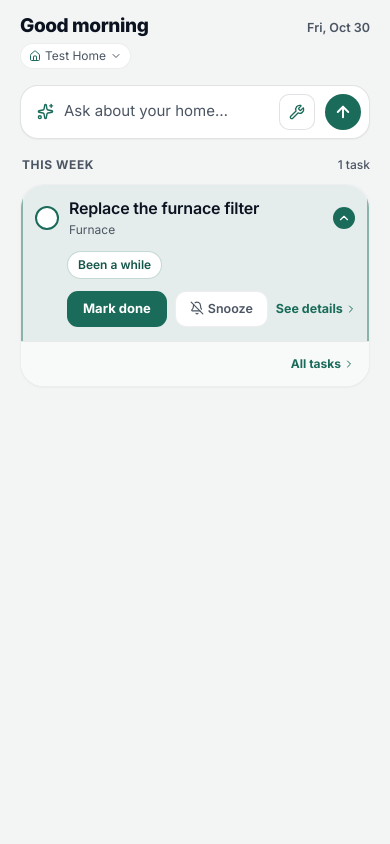
Home — a failed check-off or snooze is said on its row › mark done fails → the row comes back and says so, and no receipt is left claiming it is done
The width and height of the screenshot is (390, 844).
Click the button named "Mark Replace the furnace filter done" at (47, 218), box [29,200,65,236]
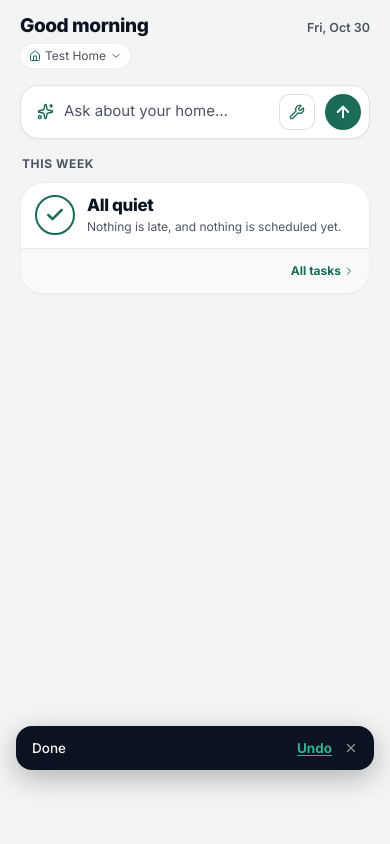
Click the button named "Dismiss" at (351, 748), box [344,741,358,755]
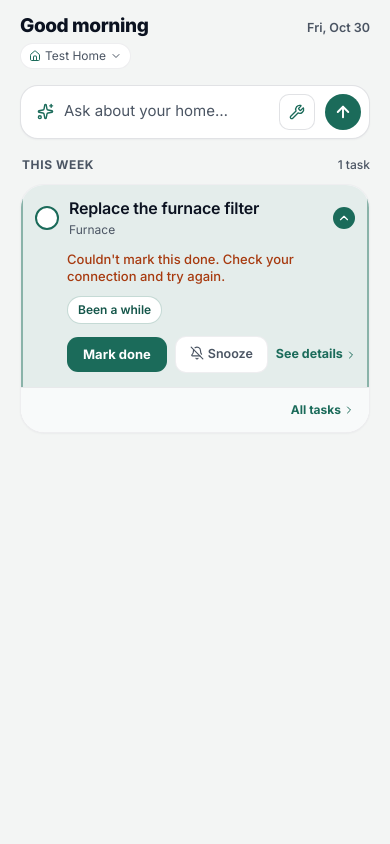
Expected: the message shows "Couldn't mark this done.", [67,250,294,284]
Expected: the text "Replace the furnace filter" is shown, [69,198,259,218]
